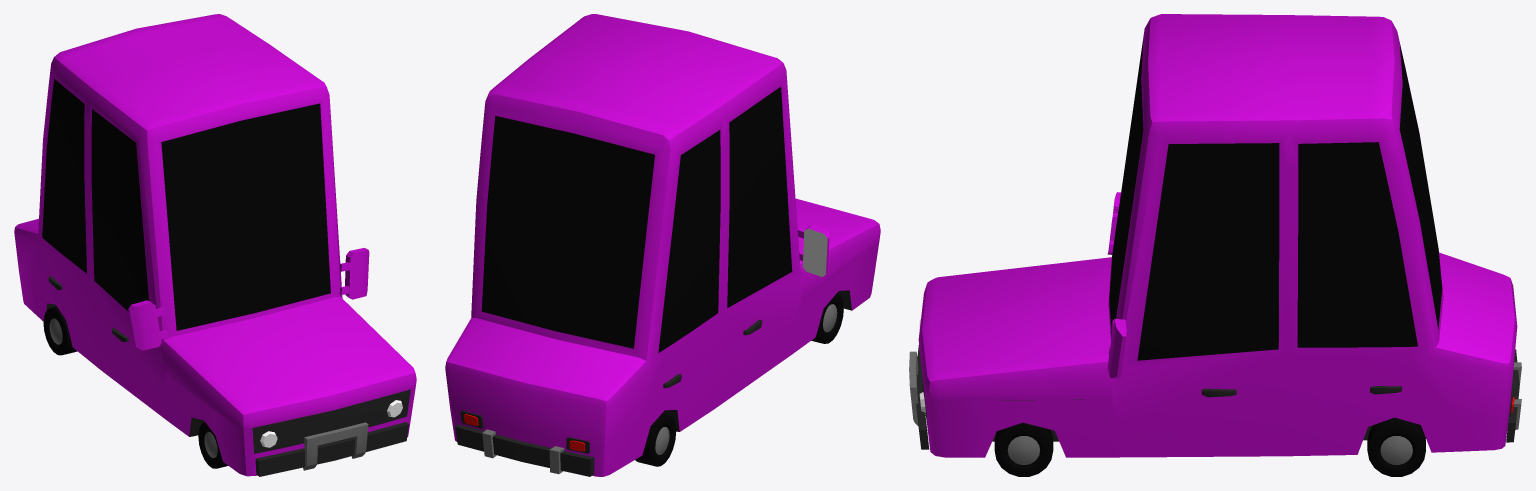
3 renders of one model, left to right at view 1: azimuth 30°, elevation 25°; view 2: azimuth 150°, elevation 25°; view 3: azimuth 270°, elevation 25°, orthographic. The views are drawn at different scales.
Parts seen in each view (by area): view 1: Cube, Cube.008, Cube.002, Cylinder.003, Cylinder.002; view 2: Cube, Cube.008, Cylinder.003, Cube.002, Cylinder.002; view 3: Cube, Cylinder.001, Cylinder.000, Cube.008, Cube.002.
Boxes of the visible parts, x1,y1,x2,y2 form: Cube: (14,14,416,476); Cube.008: (252,389,410,476); Cube.002: (128,248,369,350); Cylinder.003: (43,306,77,355); Cylinder.002: (198,421,228,468); Cube: (445,14,880,476); Cube.008: (455,410,594,476); Cylinder.003: (635,414,676,466); Cube.002: (797,224,829,276); Cylinder.002: (811,293,843,343); Cube: (918,14,1517,457); Cylinder.001: (1367,417,1425,476); Cylinder.000: (994,422,1053,476); Cube.008: (909,319,1521,449); Cube.002: (1107,192,1126,378).
Size of the model in its own units: 166 by 205 by 306.
1 material, 1 textured.
